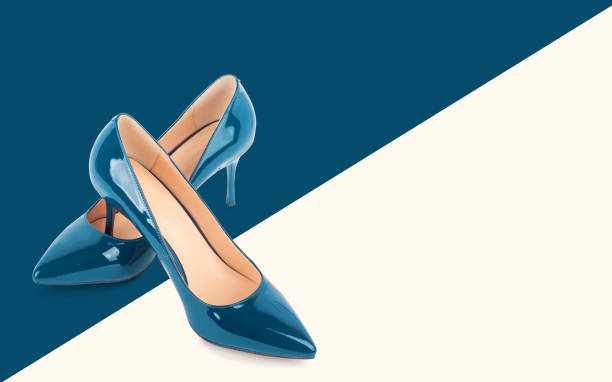Footwear: (28, 66, 319, 360), (86, 105, 322, 364)
